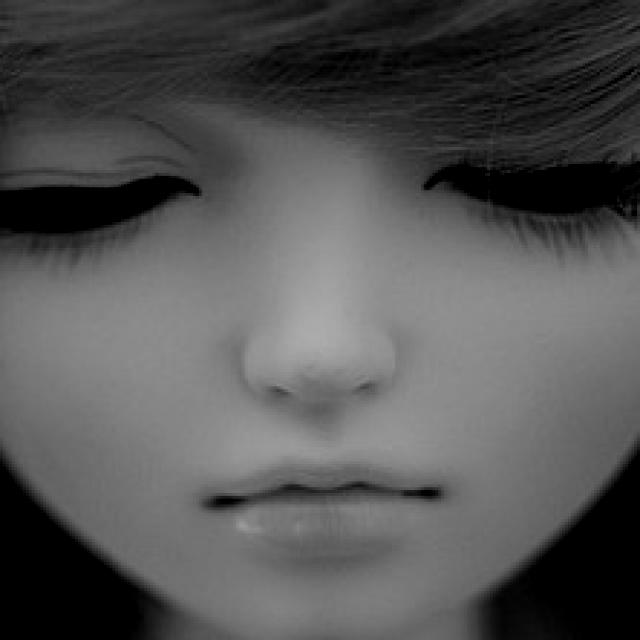real: (23, 0, 614, 640), (6, 104, 640, 263)
